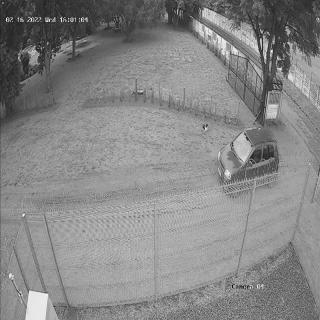car: (218, 126, 280, 198)
